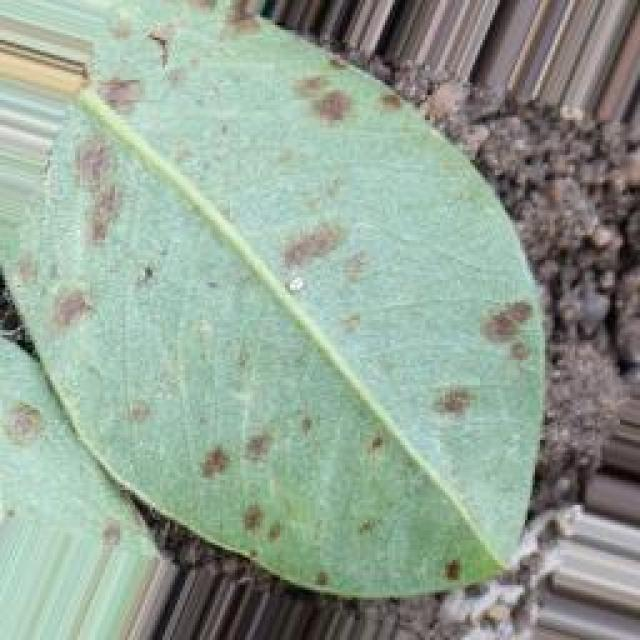Whitefly: (0, 0, 516, 549)
